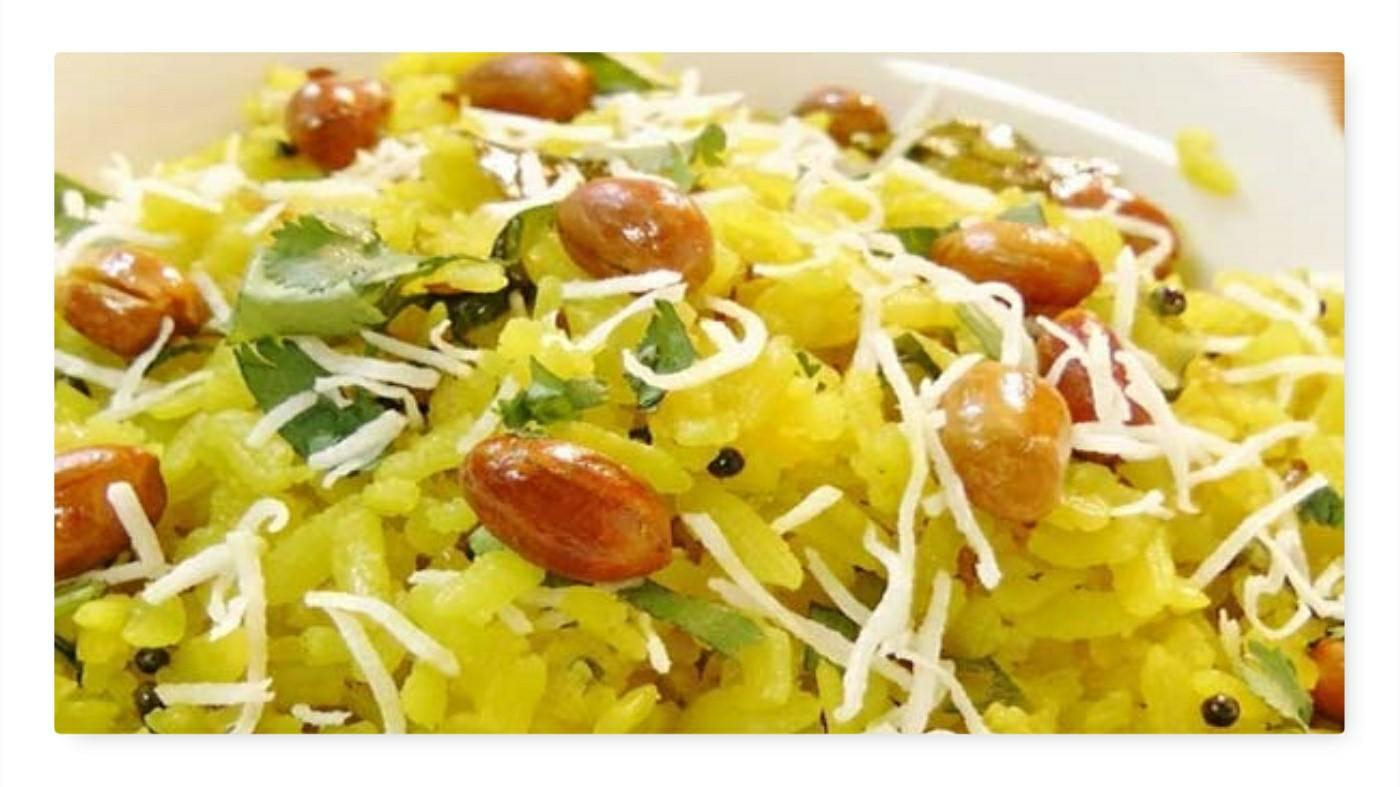Poha: (55, 60, 1344, 738)
